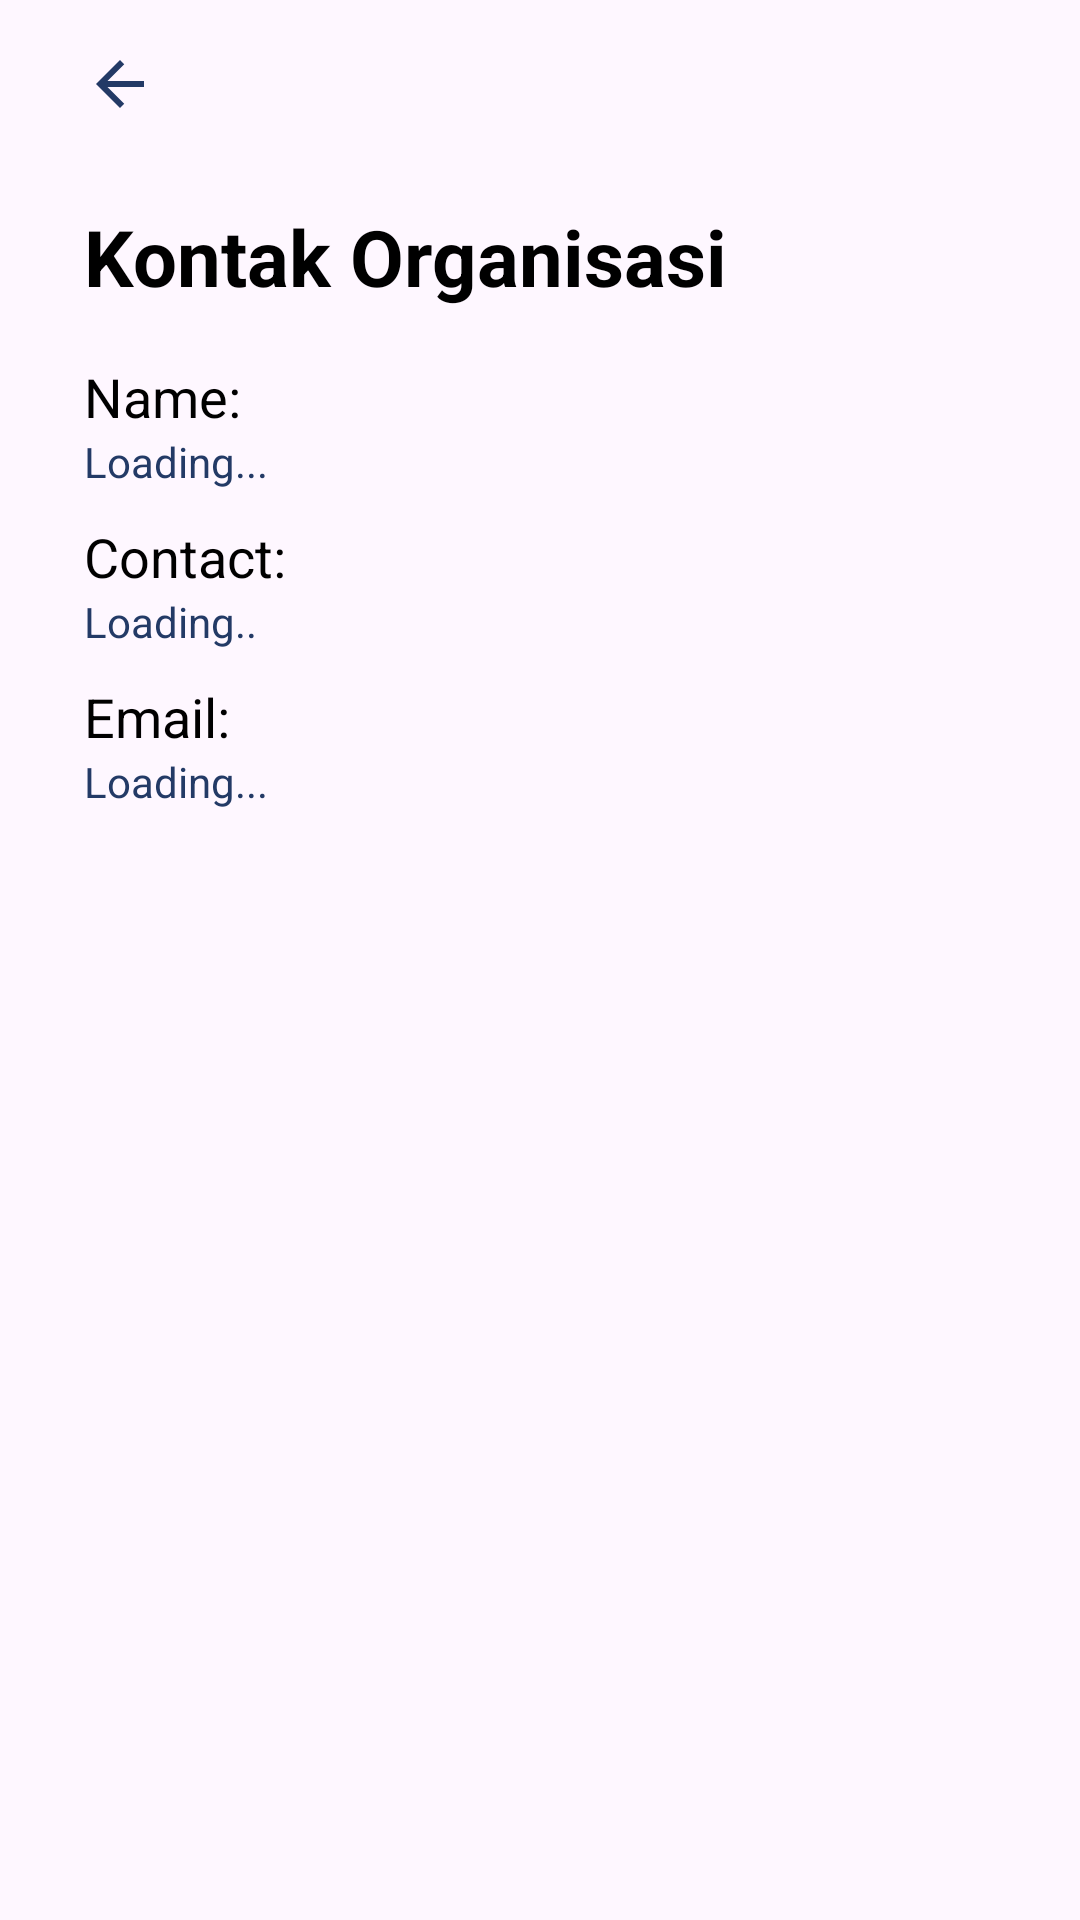

Where icons sit on this 1080 x 1920 app screen, as (x1, y1, x2, y2):
back: (96, 60, 144, 108)
